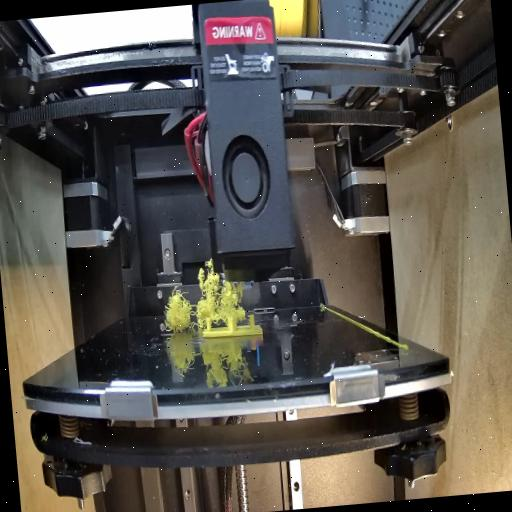spaghetti: (158, 261, 248, 332)
